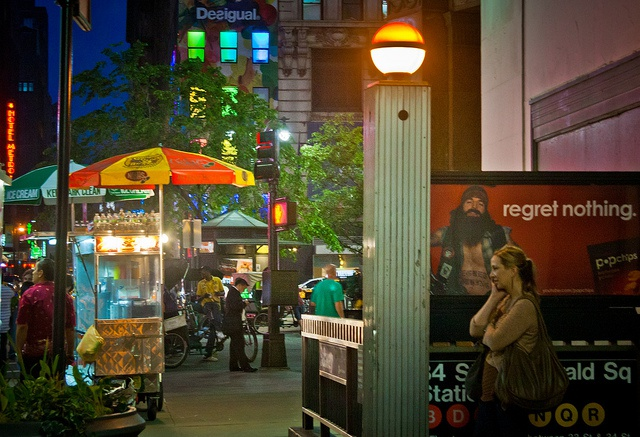non-vehicle: (196, 299, 257, 362), (163, 332, 188, 369), (252, 309, 268, 337)
